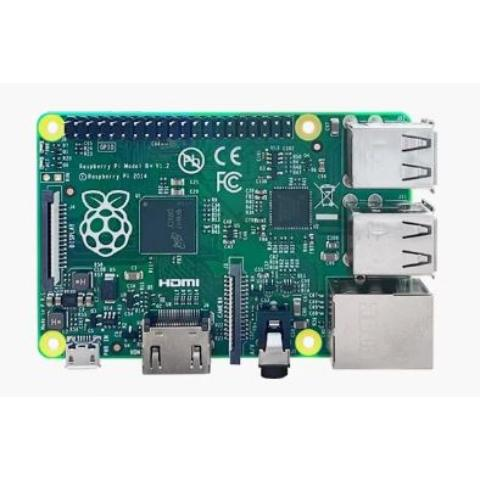Raspberry-Pi-1-Model-B-: (32, 104, 442, 382)
